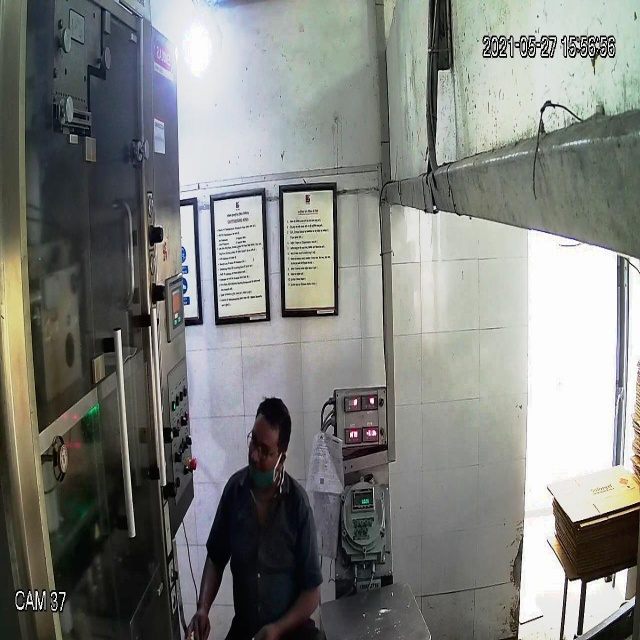Gafas: (243, 425, 288, 468)
